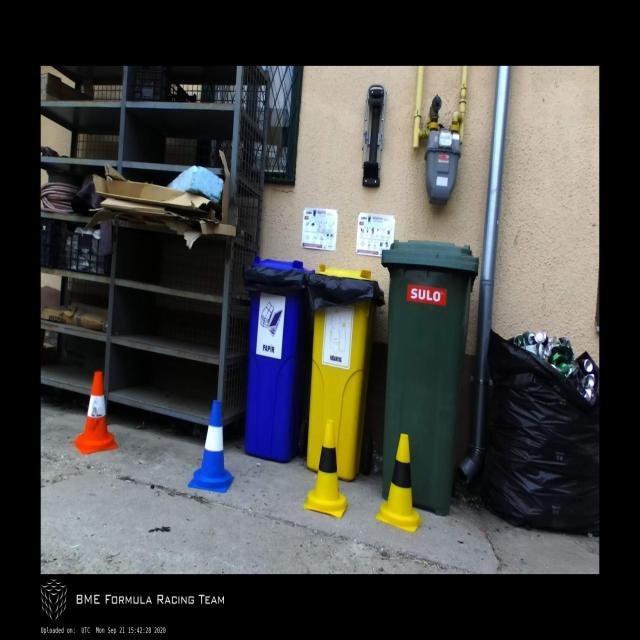blue_cone: (188, 399, 234, 492)
orange_cone: (73, 371, 119, 455)
yellow_cone: (376, 433, 422, 532), (304, 420, 348, 518)
